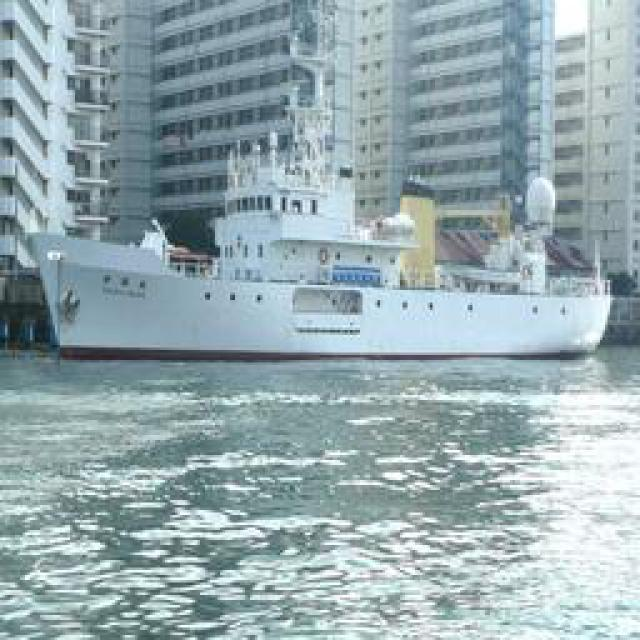Ship: (32, 76, 615, 361)
